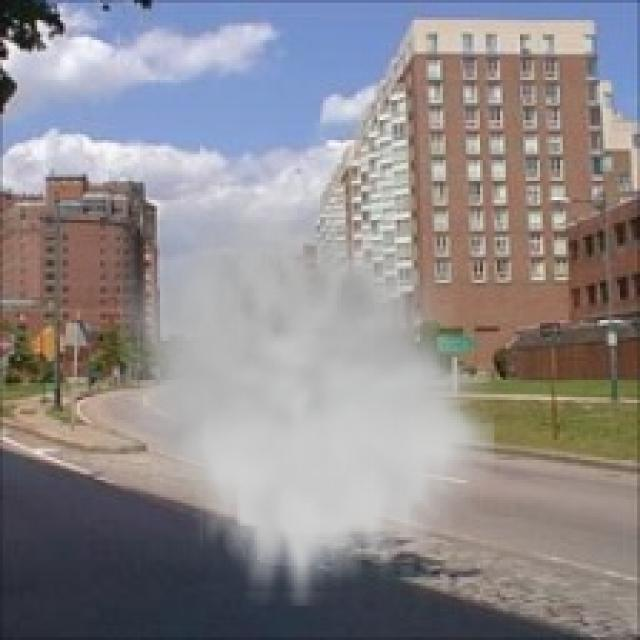smoke: (117, 183, 494, 606)
